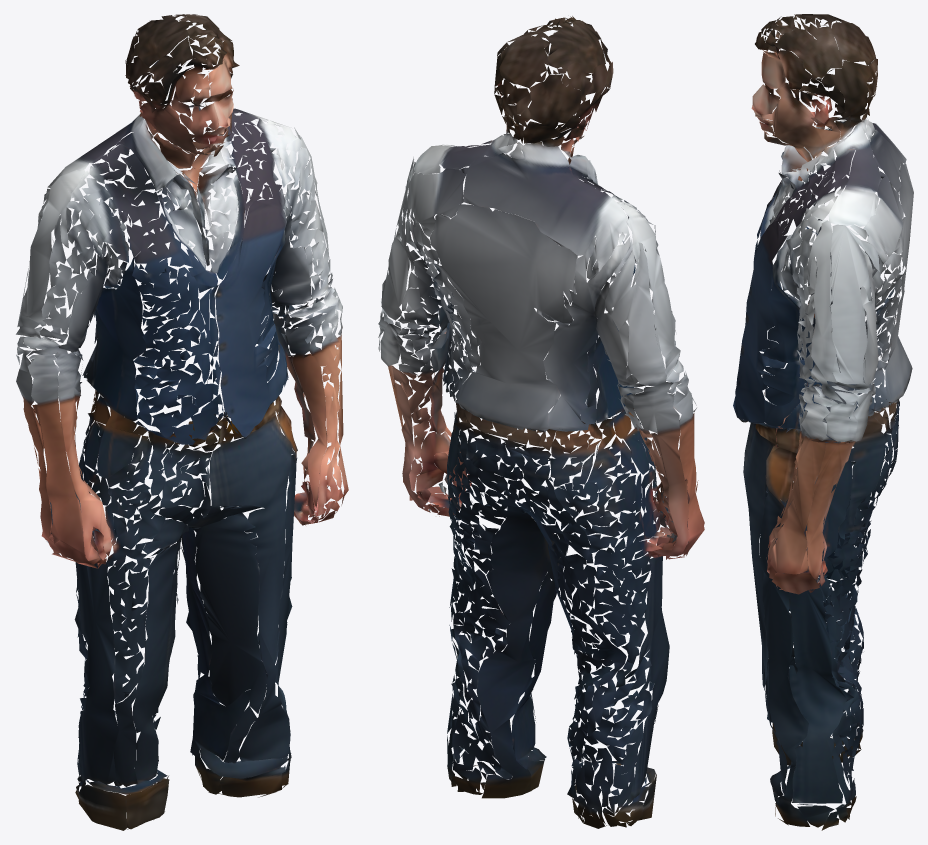
File: char_worker.glb
3 views of the same model, side by side, from view 1: azimuth 30°, elevation 25°; view 2: azimuth 150°, elevation 25°; view 3: azimuth 270°, elevation 25° (orthographic).
Visible parts, largest first — view 1: geometry_0; view 2: geometry_0; view 3: geometry_0.
Boxes of the visible parts, x1,y1,x2,y2 form: geometry_0: [16, 14, 348, 830]; geometry_0: [378, 16, 704, 828]; geometry_0: [733, 14, 913, 830].
Bounding box in the file's own units: 0.7572 × 1.81 × 0.3867.
Materials: 1 (1 with a texture image).
